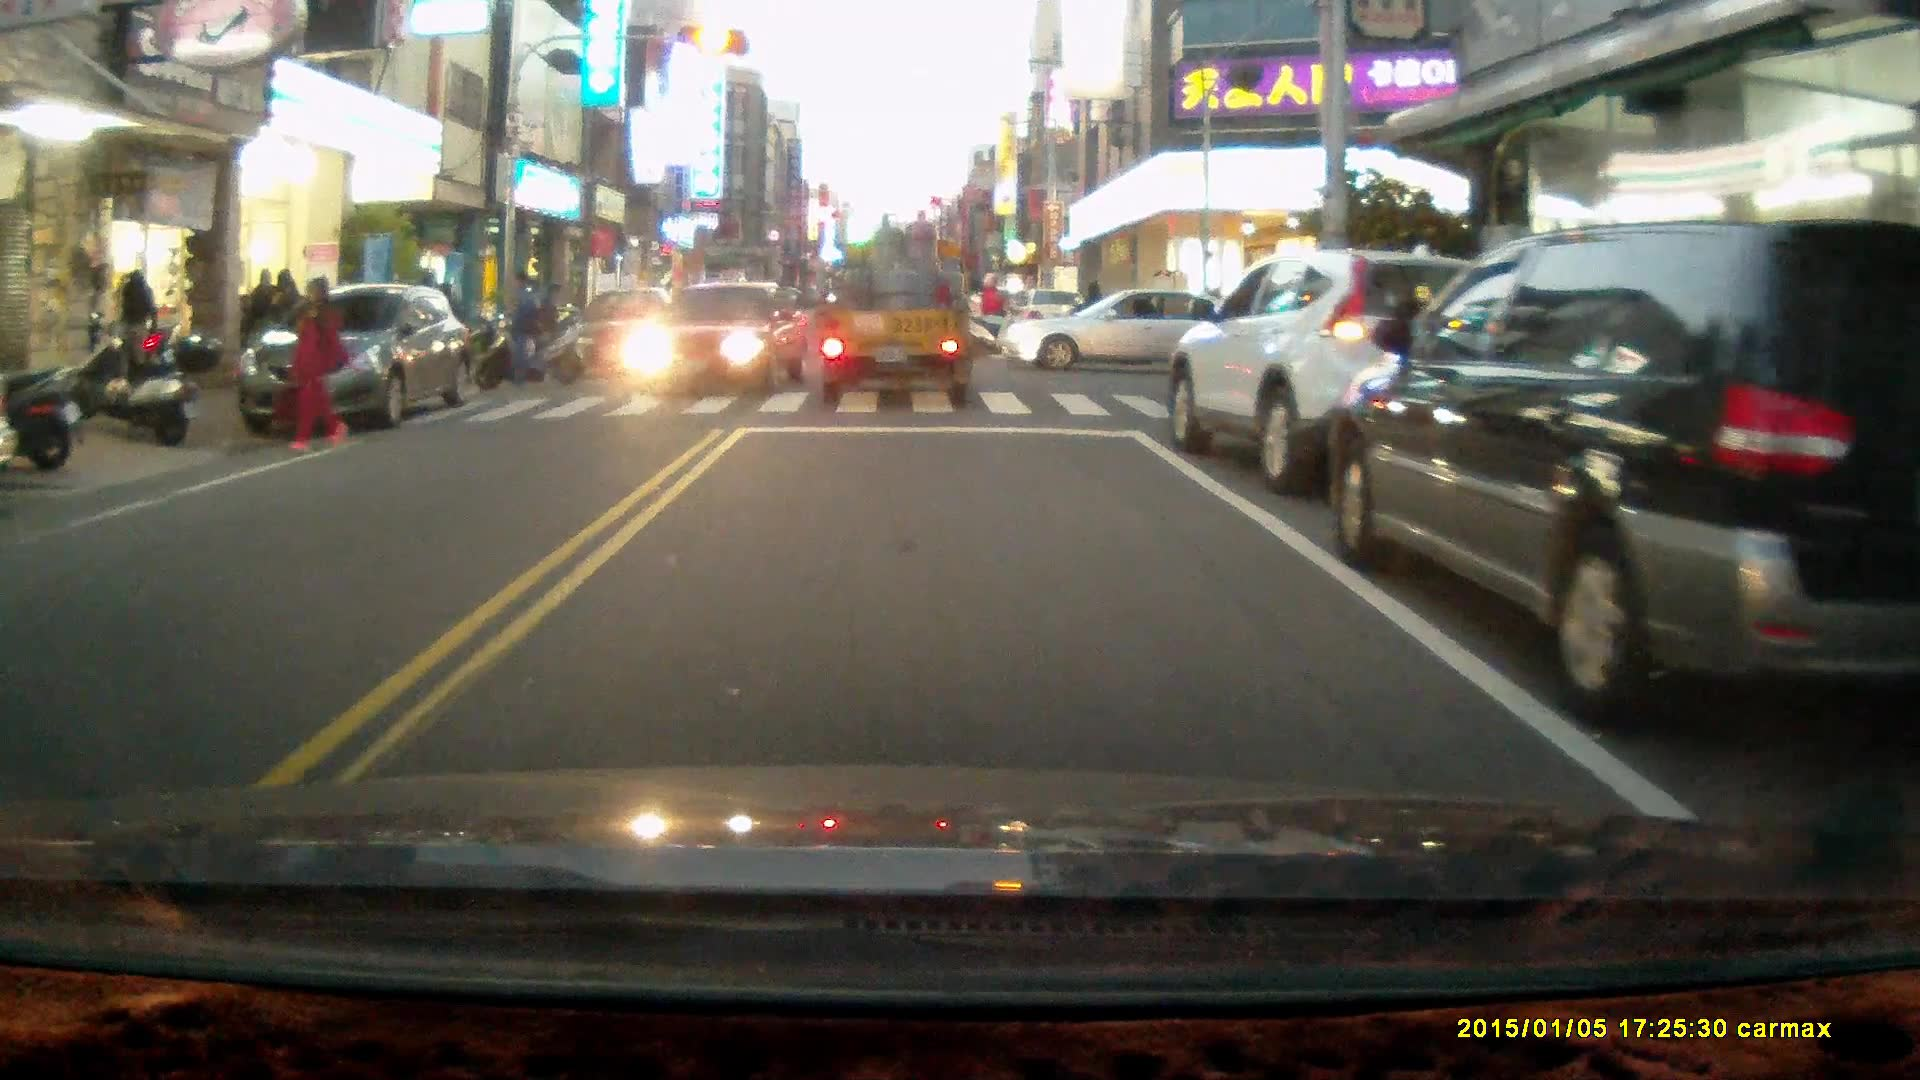pedestrian: (284, 270, 349, 451), (493, 268, 559, 393), (116, 265, 157, 371)
rider: (952, 267, 1038, 357)
vehicle: (1336, 220, 1920, 739), (1167, 247, 1534, 490), (236, 287, 462, 441), (816, 208, 989, 408), (621, 280, 810, 399), (1012, 286, 1254, 374)
